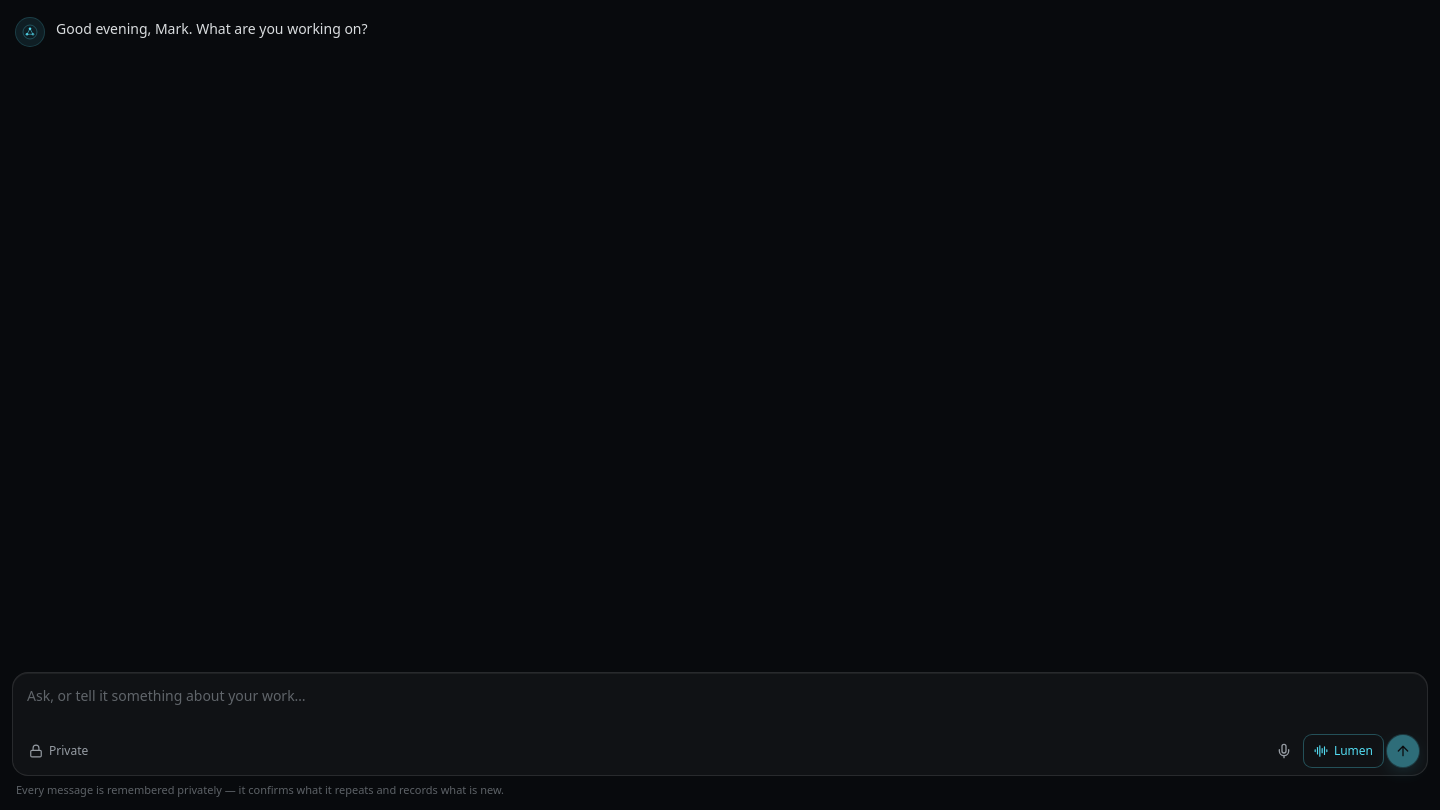
Test case: dictation › appends to what was already typed
Step 1. Type "Ship it " into the text box → x=720, y=704, box [13,673,1427,734]
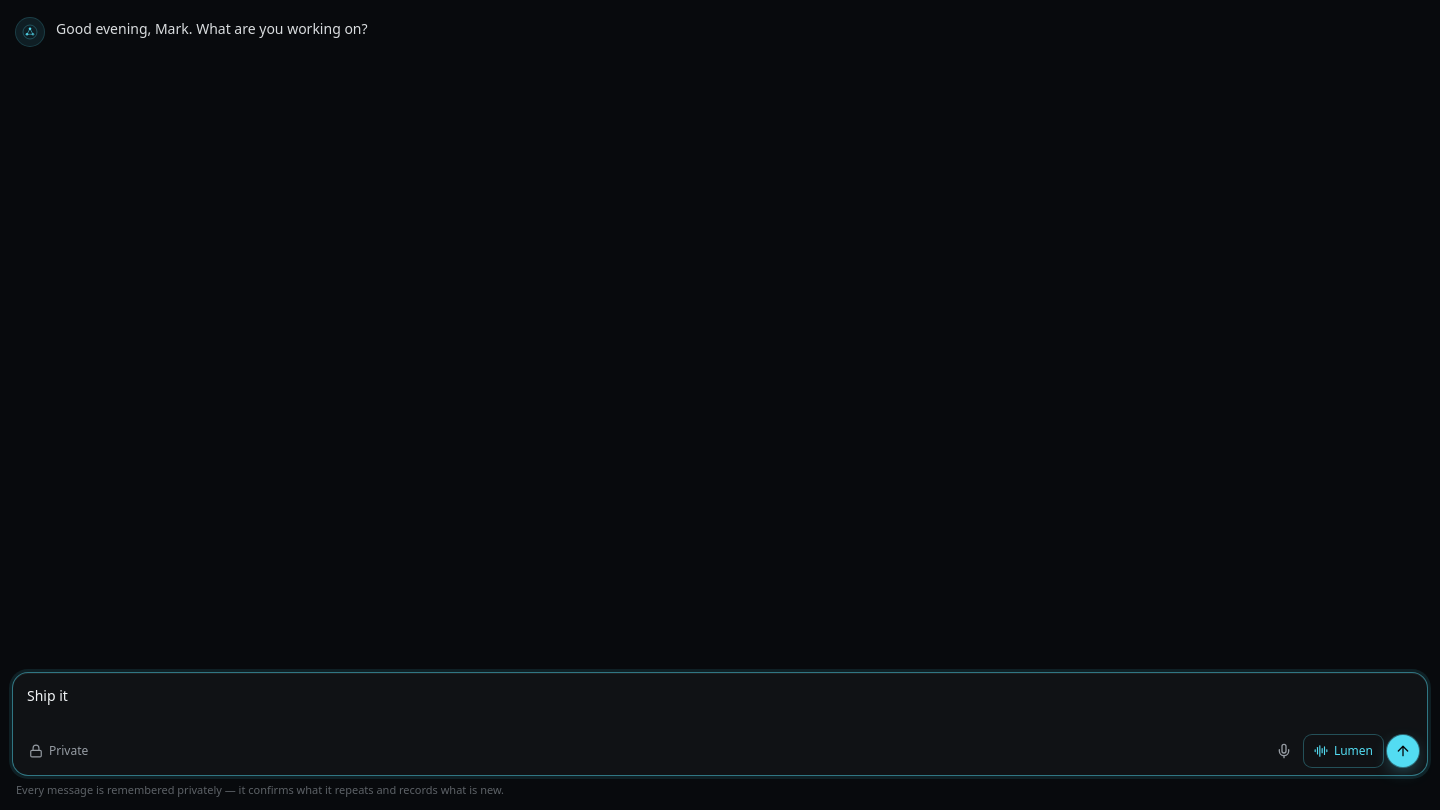
Step 2. Click the button named "Dictate a message" → x=1284, y=750, box [1268,734,1300,766]
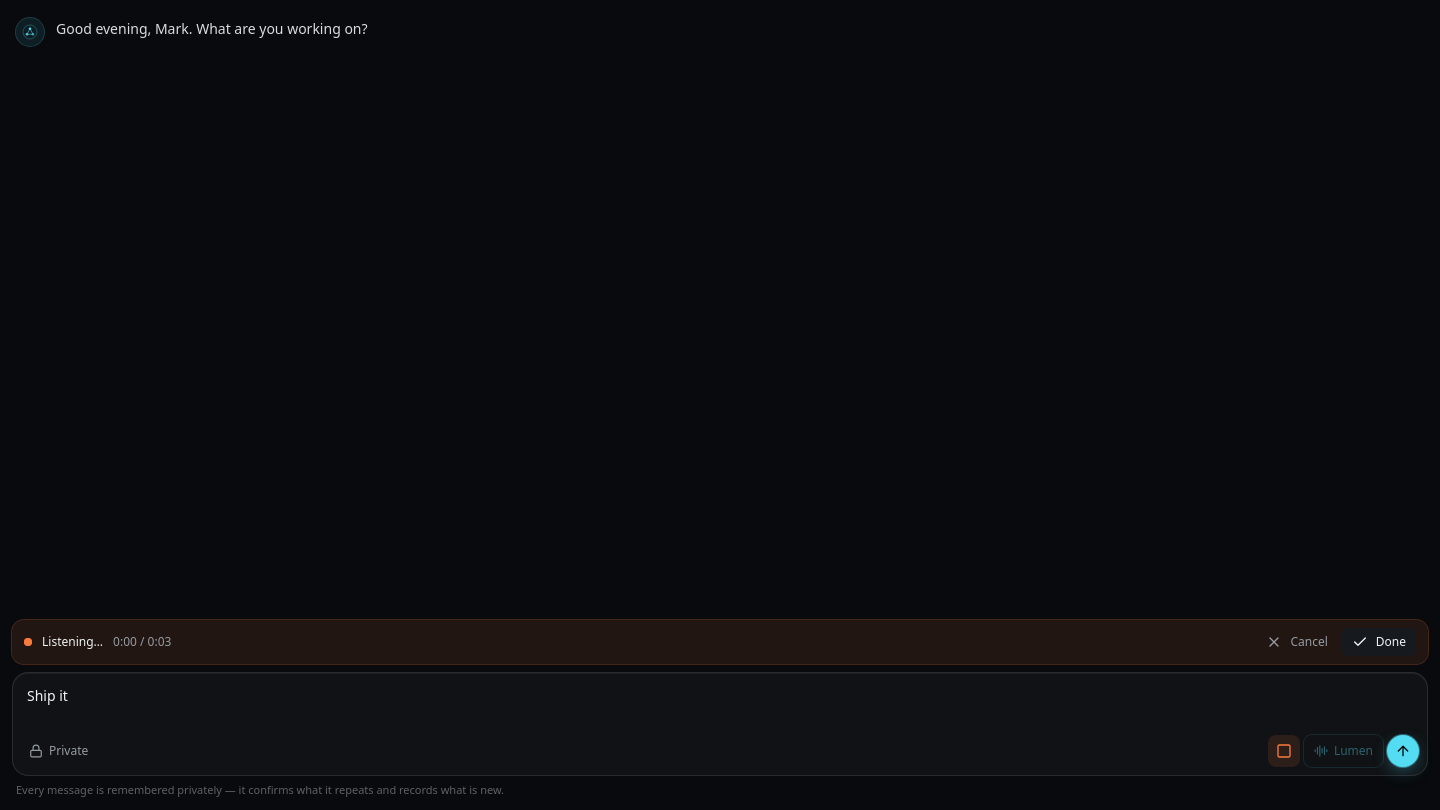
Step 3. Click the button "Done" → x=1379, y=642, box [1342,628,1416,656]
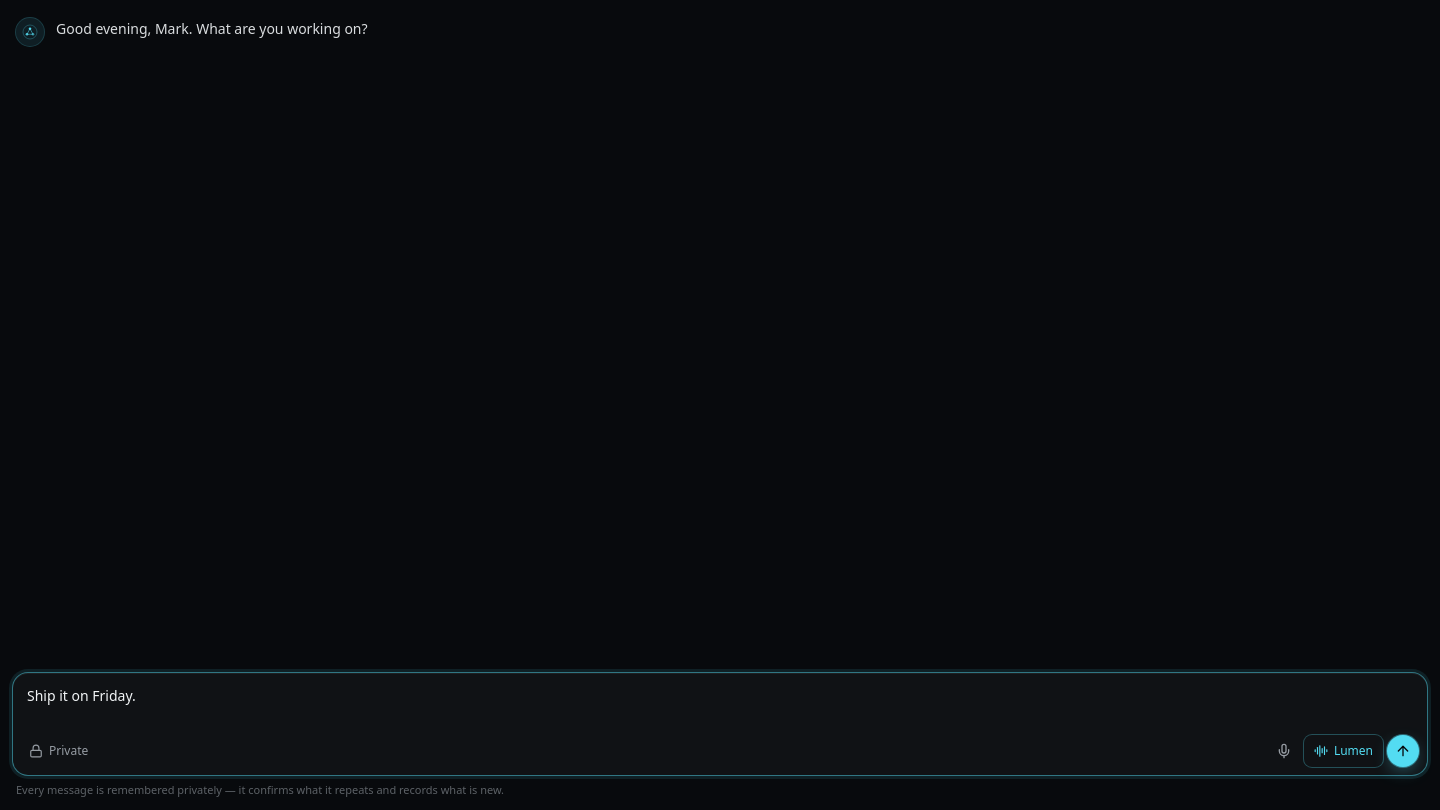
Check: the text box holds "Ship it on Friday.", box [13,673,1427,734]
